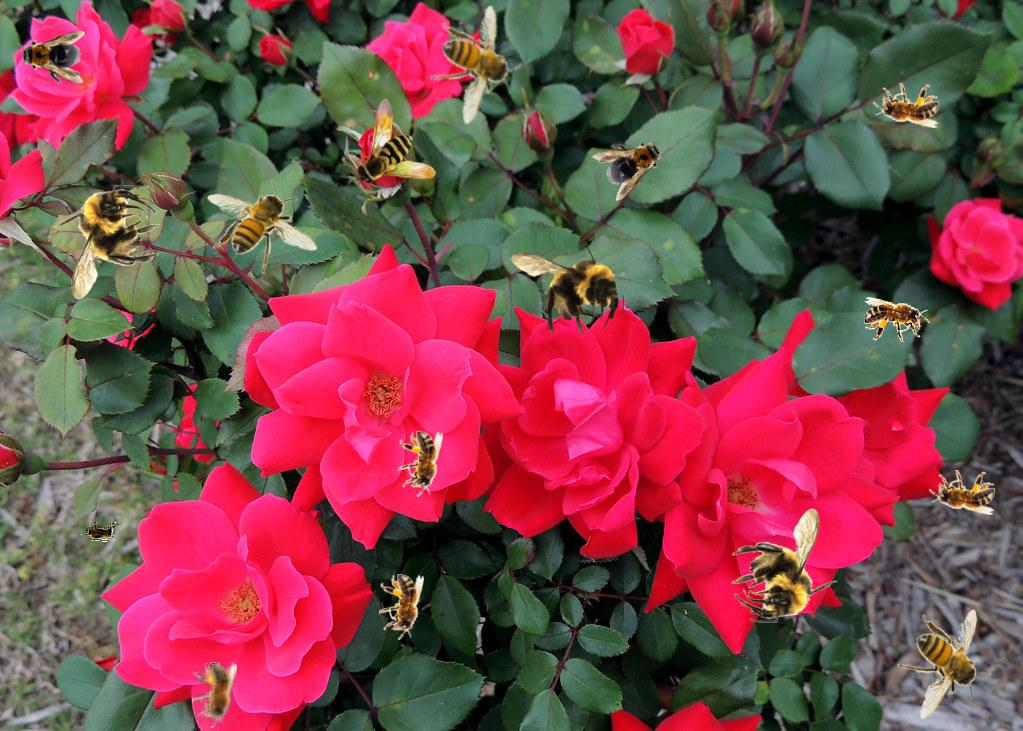Bee: (415, 0, 534, 132), (53, 185, 160, 300), (731, 508, 838, 623), (509, 233, 624, 340), (897, 609, 991, 720), (207, 180, 318, 274), (354, 98, 436, 186), (590, 122, 676, 202), (17, 31, 85, 83), (379, 574, 424, 640), (873, 83, 939, 128), (398, 431, 443, 497), (864, 297, 930, 342), (192, 662, 237, 728), (929, 470, 995, 515), (80, 521, 120, 543)
